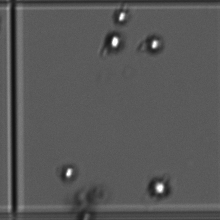Dead Cell: (86, 180, 110, 205)
Living Cell: (146, 177, 175, 198), (105, 32, 126, 51), (111, 7, 131, 26), (145, 35, 164, 54), (60, 164, 78, 181)
